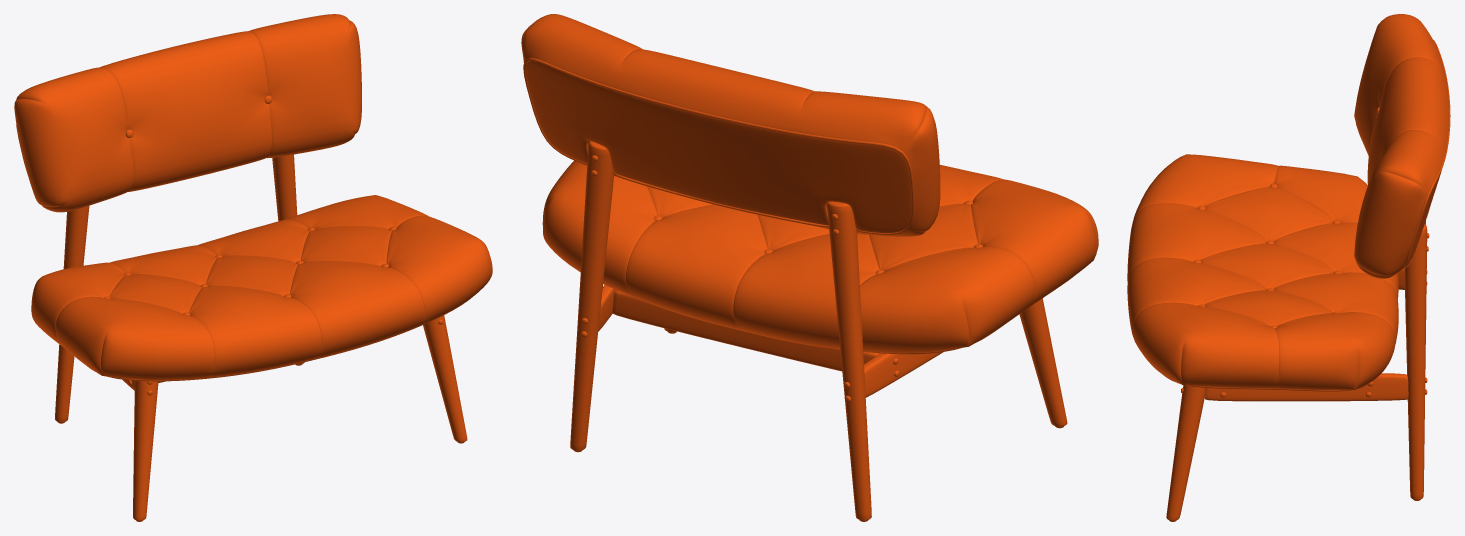
The model's file is lounge_chair.glb.
3 renders of one model, left to right at view 1: azimuth 30°, elevation 25°; view 2: azimuth 150°, elevation 25°; view 3: azimuth 270°, elevation 25°, orthographic. The views are drawn at different scales.
Parts seen in each view (by area): view 1: Chair; view 2: Chair; view 3: Chair.
Part boxes in pixels (x1,y1,x2,y2): Chair: (14, 14, 492, 521); Chair: (521, 14, 1098, 521); Chair: (1127, 14, 1450, 521).
Size of the model in its own units: 0.8266 by 0.6862 by 0.5703.
